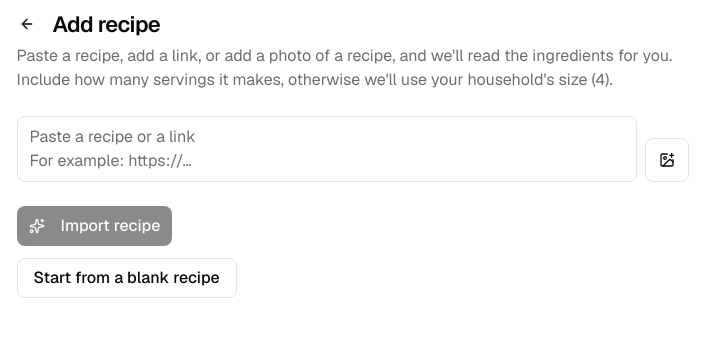
Scenario: RecipeImportClient error localization › renders the English timeout copy on the en locale
Type "https://example.com/recipe" into the text box. click: (326, 149)
box: [16,116,636,182]
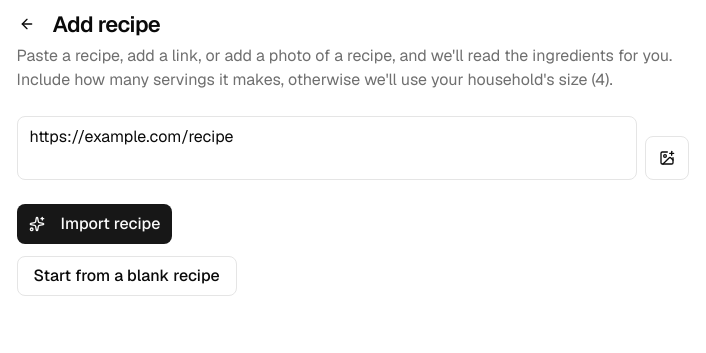
Click the button "Import recipe". click: (94, 224)
box: [16,204,172,244]
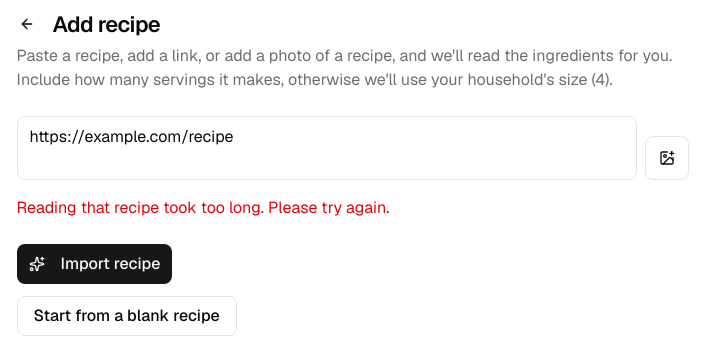
Check: the text "Reading that recipe took too long. Please try again." is shown, box [16,197,389,218]
